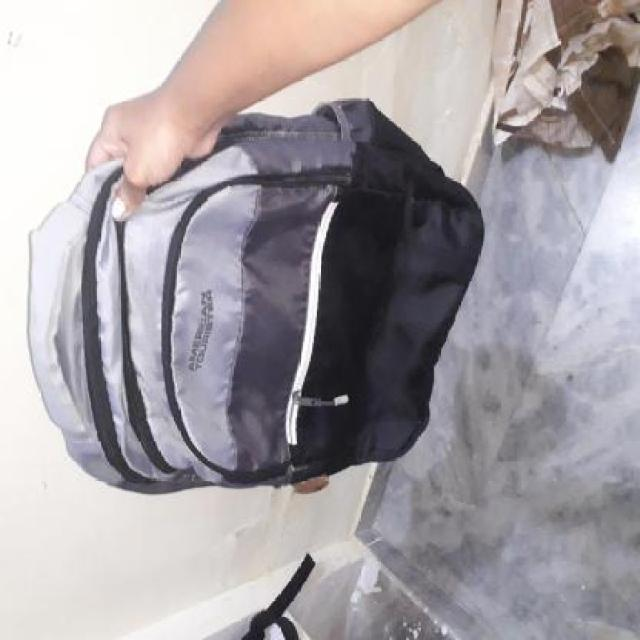backpack: (23, 91, 488, 500)
